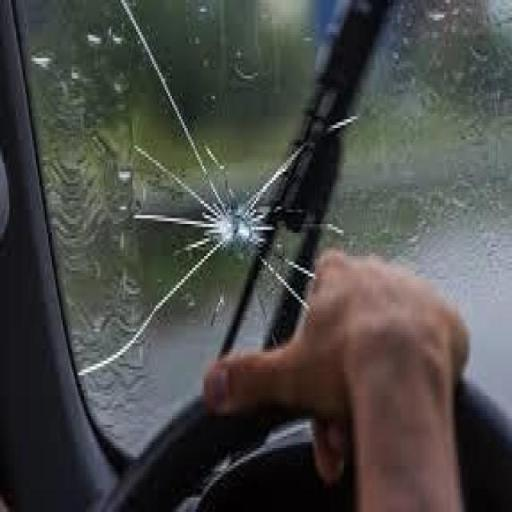glass: (85, 48, 367, 330)
